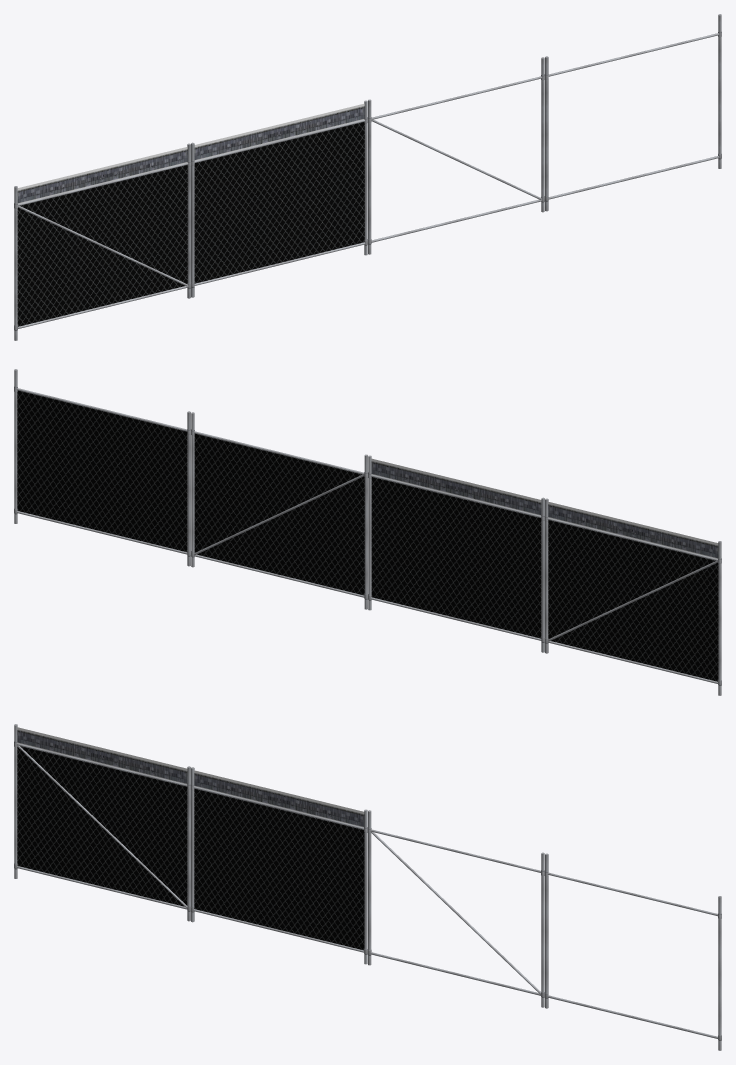
The model's file is metallic fence 2.FBX.
3 renders of one model, top to bottom at view 1: azimuth 30°, elevation 25°; view 2: azimuth 150°, elevation 25°; view 3: azimuth 330°, elevation 25°, orthographic.
Parts seen in each view (by area): view 1: metallic_fence_2_grid, metallic_fence_4_grid, metallic_fence_1, metallic_fence_4, metallic_fence_3, metallic_fence_2; view 2: metallic_fence_2_grid, metallic_fence_4_grid, metallic_fence_3_grid, metallic_fence_1_grid, metallic_fence_1, metallic_fence_4, metallic_fence_3, metallic_fence_2; view 3: metallic_fence_2_grid, metallic_fence_4_grid, metallic_fence_1, metallic_fence_4, metallic_fence_3, metallic_fence_2.
Part boxes in pixels (x1,y1,x2,y2): metallic_fence_2_grid: (194,103,364,283); metallic_fence_4_grid: (17,147,187,326); metallic_fence_1: (367,57,544,254); metallic_fence_4: (14,143,191,340); metallic_fence_3: (544,14,721,211); metallic_fence_2: (191,100,367,297); metallic_fence_2_grid: (371,458,541,638); metallic_fence_4_grid: (548,502,718,681); metallic_fence_3_grid: (17,390,187,551); metallic_fence_1_grid: (194,433,364,595); metallic_fence_1: (191,412,368,609); metallic_fence_4: (544,498,721,695); metallic_fence_3: (14,369,191,566); metallic_fence_2: (368,455,544,652); metallic_fence_2_grid: (194,770,364,950); metallic_fence_4_grid: (17,727,187,906); metallic_fence_1: (367,810,544,1007); metallic_fence_4: (14,724,190,921); metallic_fence_3: (544,853,721,1050); metallic_fence_2: (190,767,367,964).
Bounding box in the file's own units: 1151 × 5.58 × 239.
